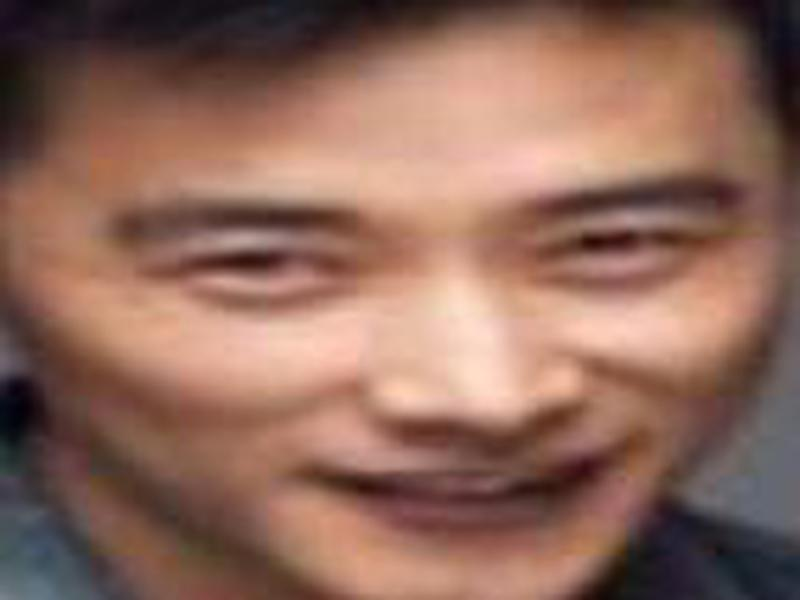without_mask: (25, 31, 780, 585)
